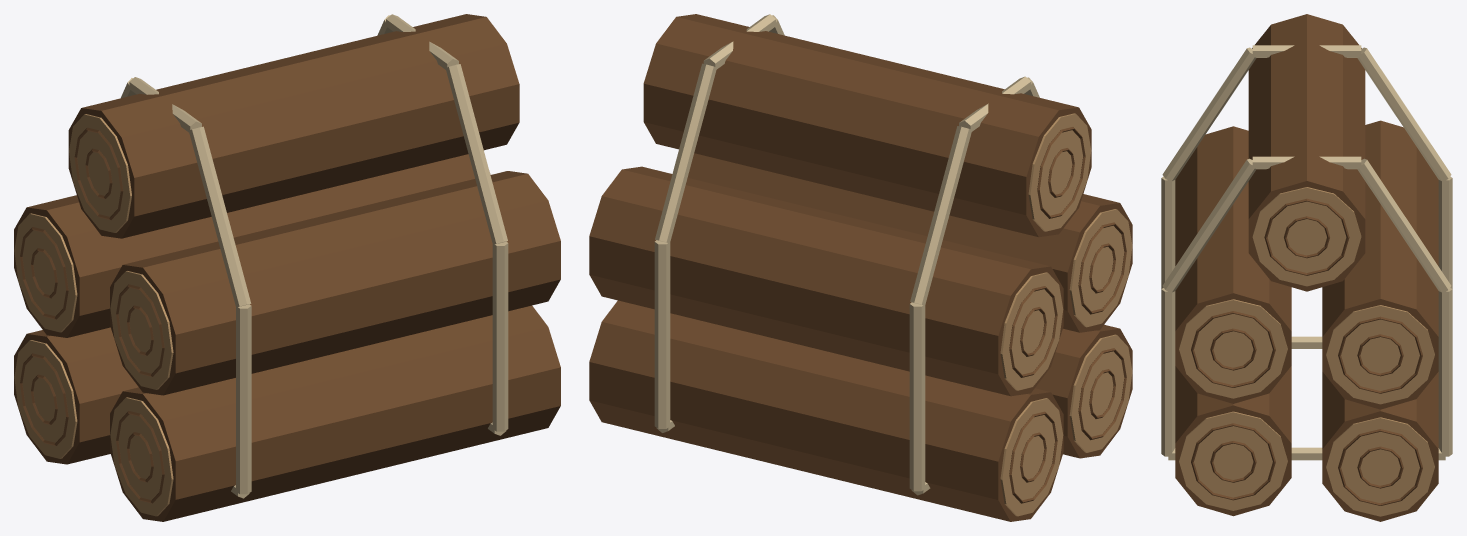
Rendered from timber_bundle.glb.
3 renders of one model, left to right at view 1: azimuth 30°, elevation 25°; view 2: azimuth 150°, elevation 25°; view 3: azimuth 270°, elevation 25°, orthographic. The views are drawn at different scales.
Visible parts, largest first — view 1: timber_bundle; view 2: timber_bundle; view 3: timber_bundle.
Part boxes in pixels (box(x1,y1,x2,y2)): timber_bundle: box(14, 14, 560, 521); timber_bundle: box(589, 14, 1132, 521); timber_bundle: box(1161, 14, 1452, 521).
Bounding box in the file's own units: 0.555 × 0.478 × 0.376.
